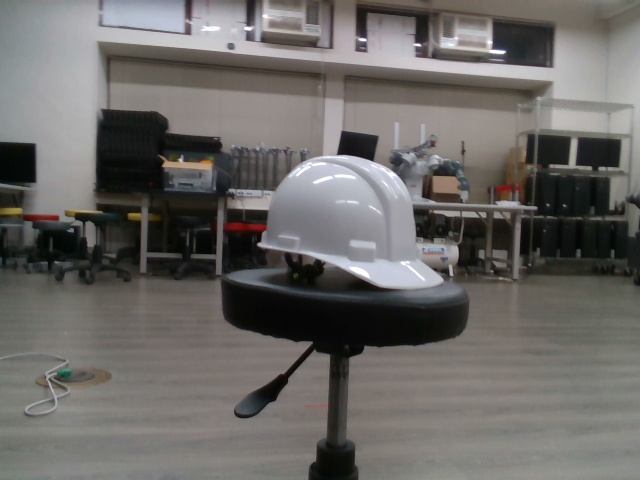helmet: (256, 151, 446, 293)
